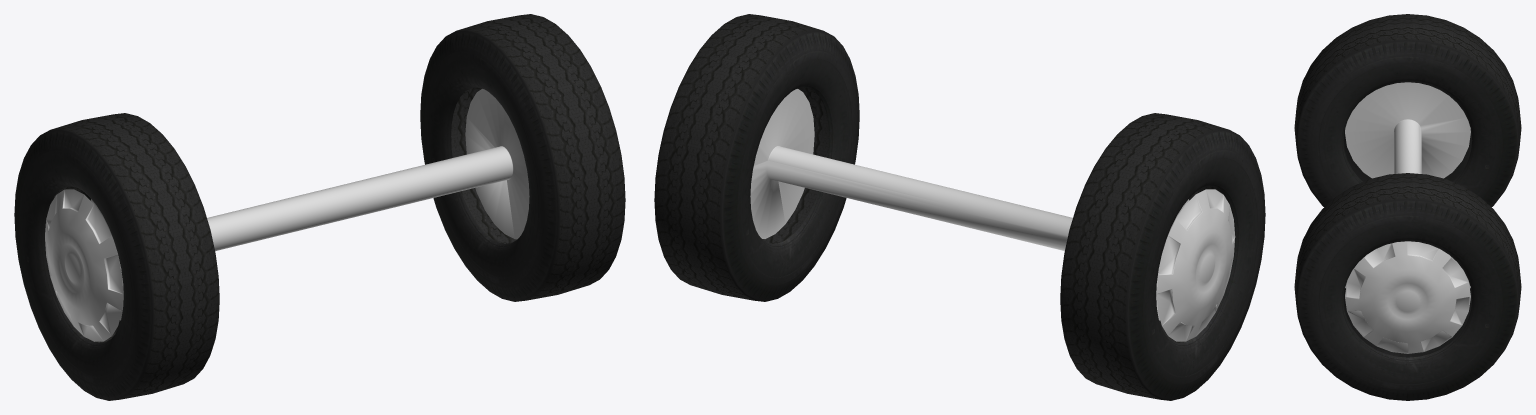
File: back_wheels.glb
3 renders of one model, left to right at view 1: azimuth 30°, elevation 25°; view 2: azimuth 150°, elevation 25°; view 3: azimuth 270°, elevation 25°, orthographic. The views are drawn at different scales.
Parts seen in each view (by area): view 1: Object021_Material #276_0.001; view 2: Object021_Material #276_0.001; view 3: Object021_Material #276_0.001.
Boxes of the visible parts, x1,y1,x2,y2 form: Object021_Material #276_0.001: [14, 14, 625, 400]; Object021_Material #276_0.001: [654, 14, 1265, 400]; Object021_Material #276_0.001: [1294, 14, 1521, 400].
Bounding box in the file's own units: 2.23 × 1.11 × 1.11.
3 materials, 2 textured.
